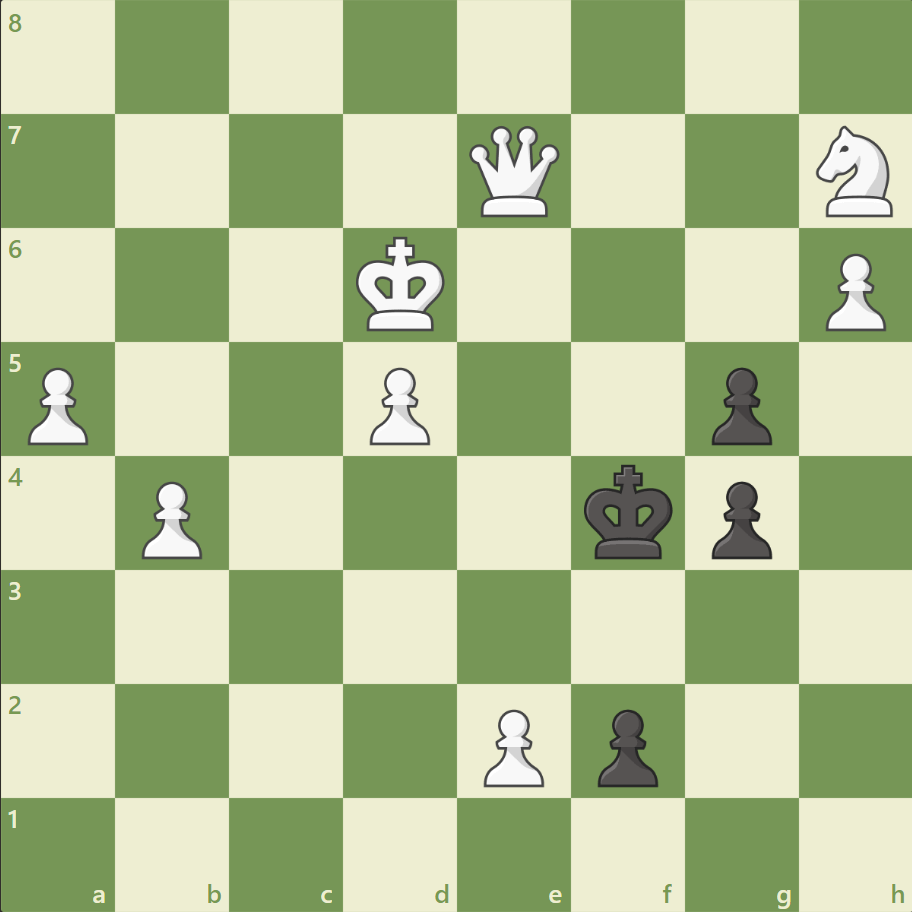K: (351, 231, 451, 339)
N: (806, 121, 903, 223)
P: (20, 359, 95, 450), (133, 473, 208, 564), (474, 700, 549, 791), (815, 246, 889, 337), (361, 359, 435, 450)
Q: (464, 122, 563, 222)
k: (579, 458, 679, 566)
p: (701, 359, 776, 450), (701, 473, 776, 564), (588, 700, 662, 791)
